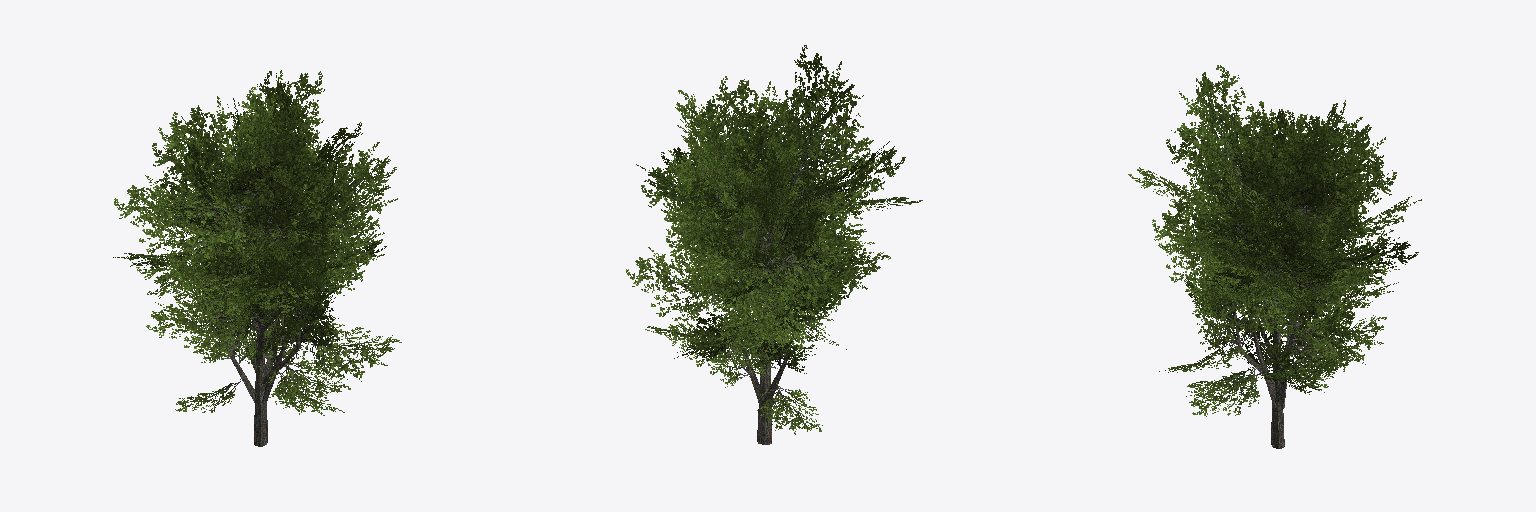
3 renders of one model, left to right at view 1: azimuth 30°, elevation 25°; view 2: azimuth 150°, elevation 25°; view 3: azimuth 270°, elevation 25°, orthographic.
Parts seen in each view (by area): view 1: Default; view 2: Default; view 3: Default.
Boxes of the visible parts, x1,y1,x2,y2 form: Default: [113, 70, 401, 446]; Default: [626, 45, 922, 444]; Default: [1128, 65, 1421, 448].
Bounding box in the file's own units: 9.13 × 11.39 × 9.13.
Materials: 2 (2 with a texture image).